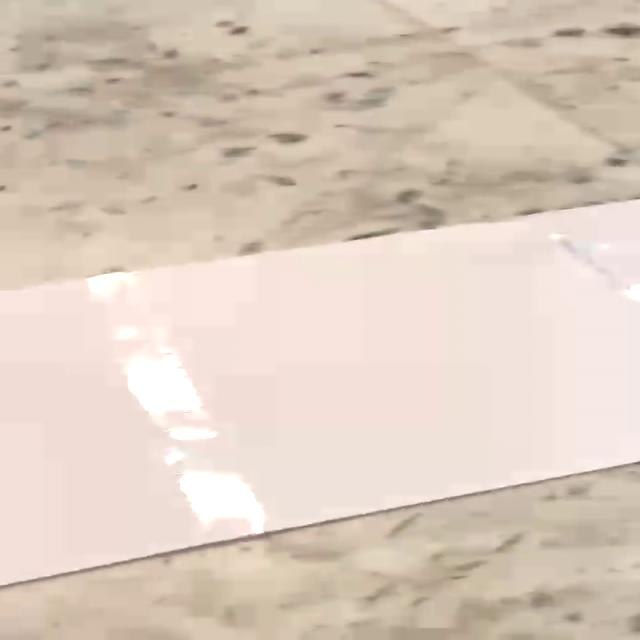road: (3, 201, 640, 583)
